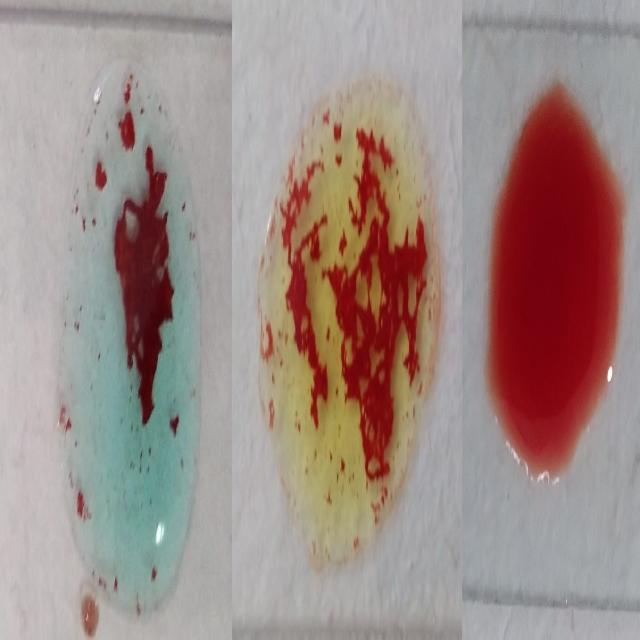A: (59, 47, 201, 612)
B: (254, 75, 442, 568)
